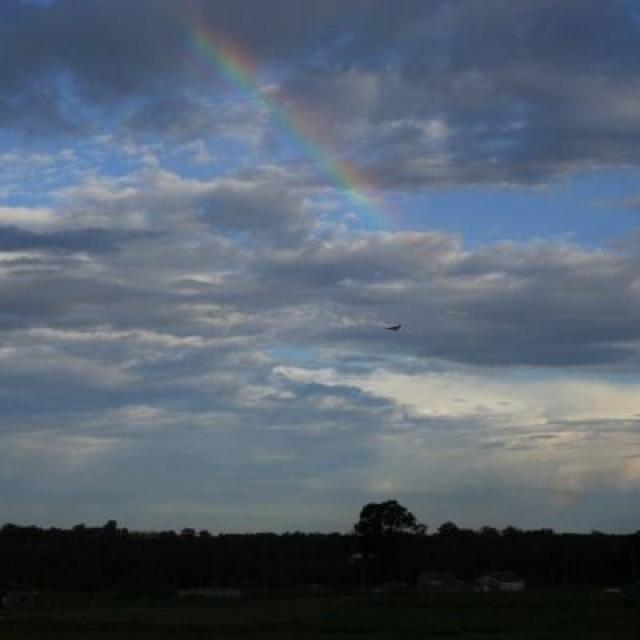Ac: (1, 21, 640, 473)
